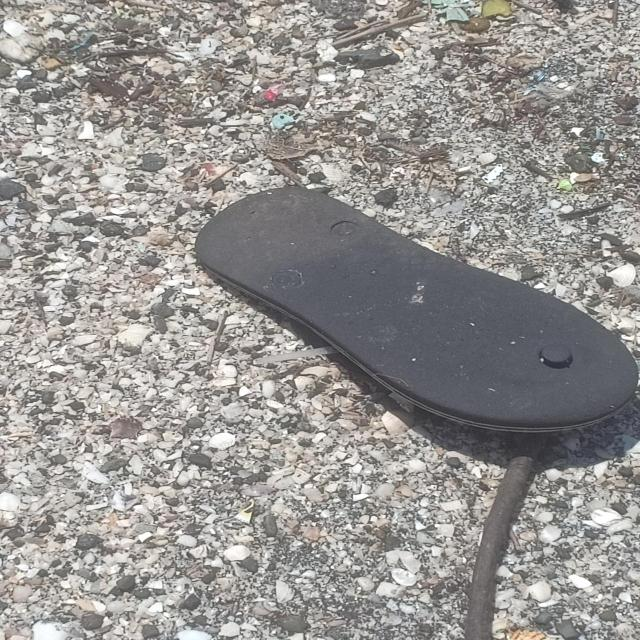rubber_waste: (193, 185, 640, 437)
